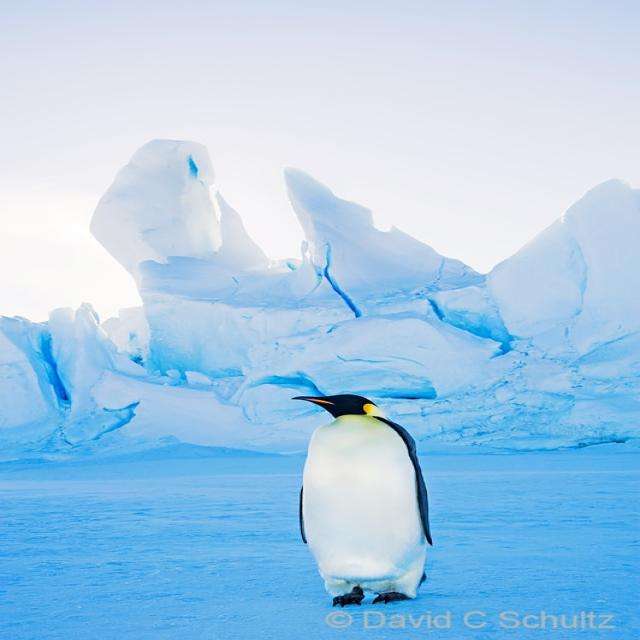Penguins: (275, 386, 445, 609)
